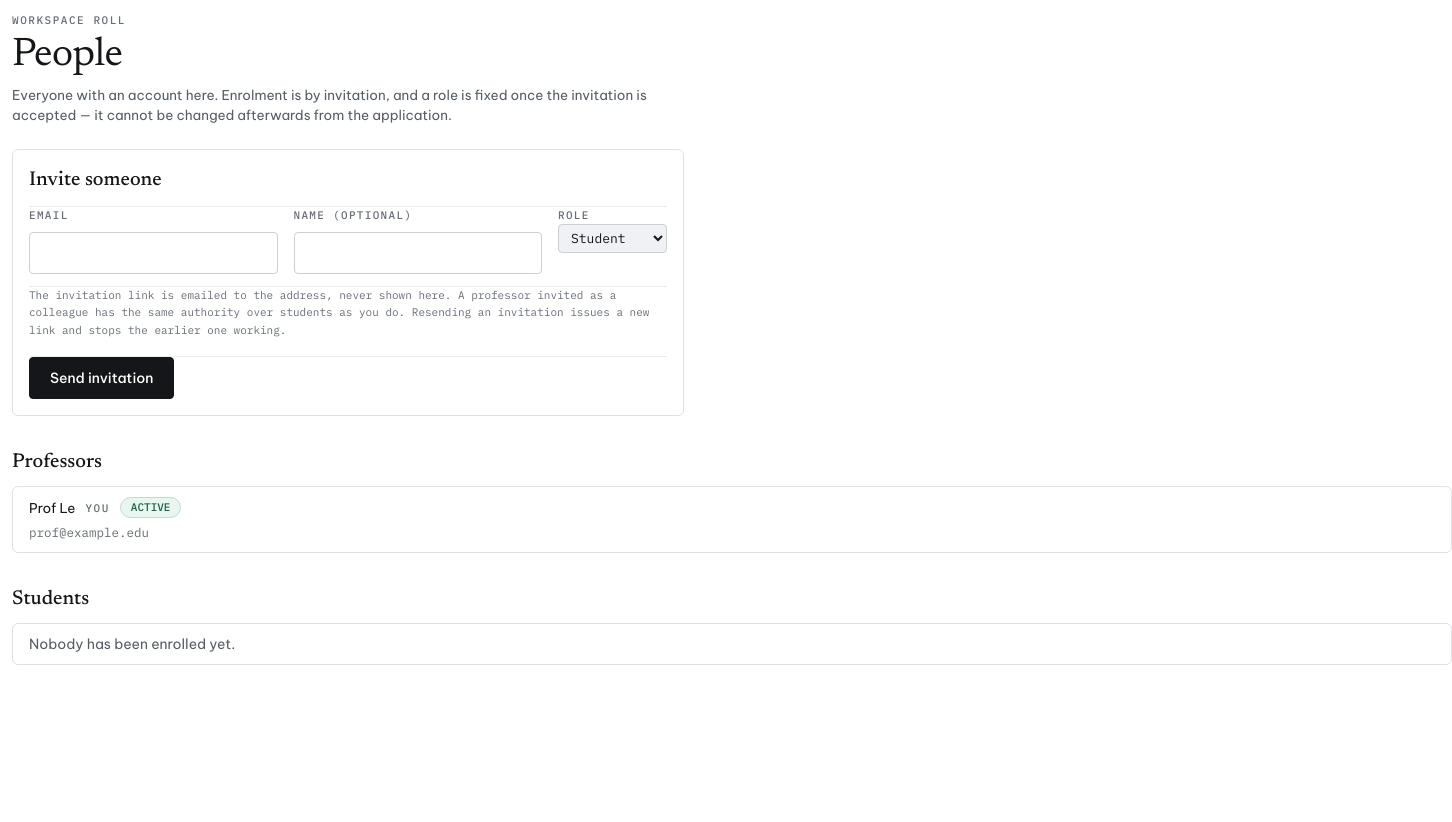
Test: confirms an invitation by the address it went to, never by a link
Type "new@example.edu" into the field labelled "Email" at (153, 252), box left=29, top=232, right=278, bottom=274
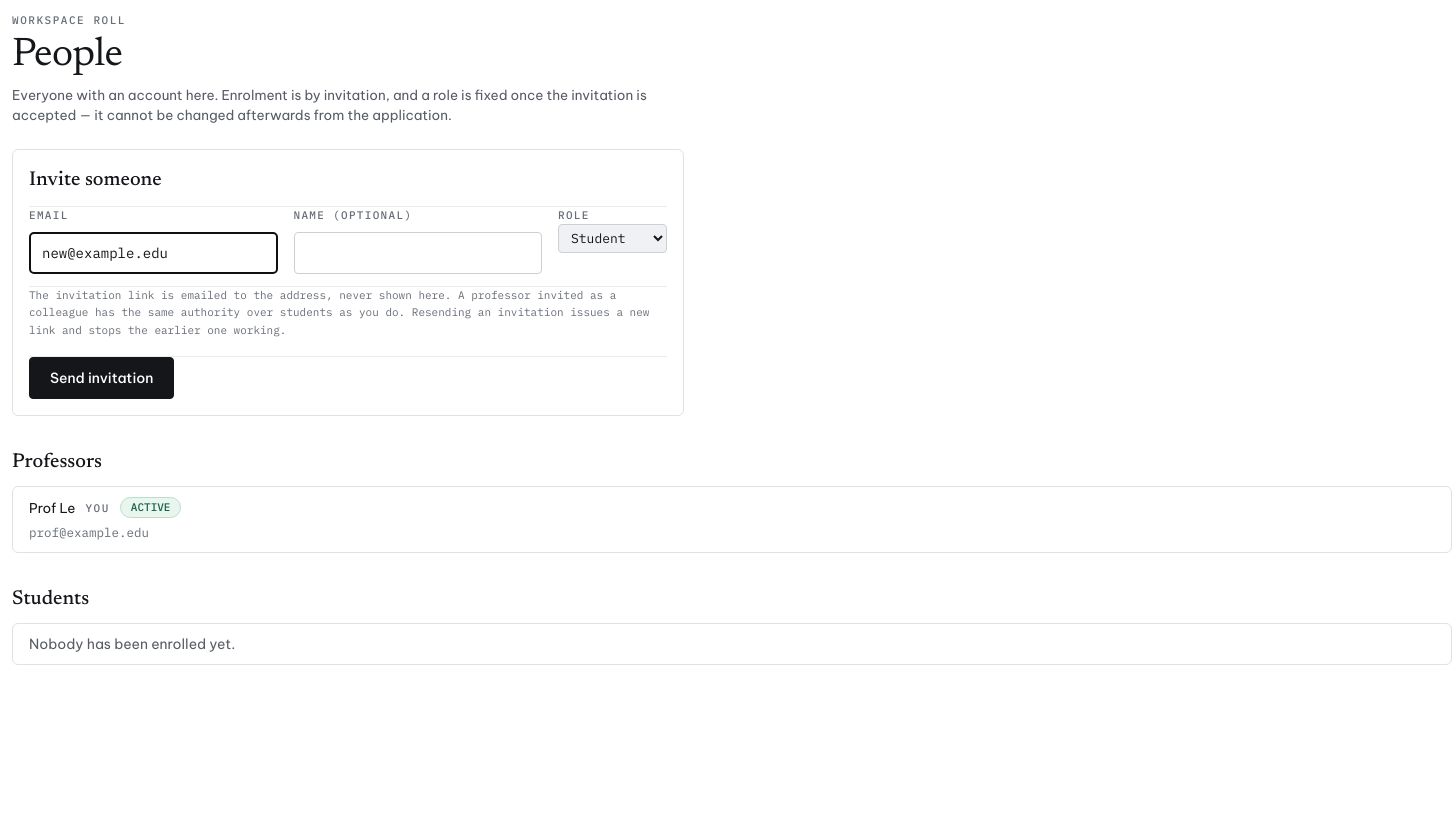
Click the button "Send invitation" at (102, 378), box left=29, top=357, right=174, bottom=399
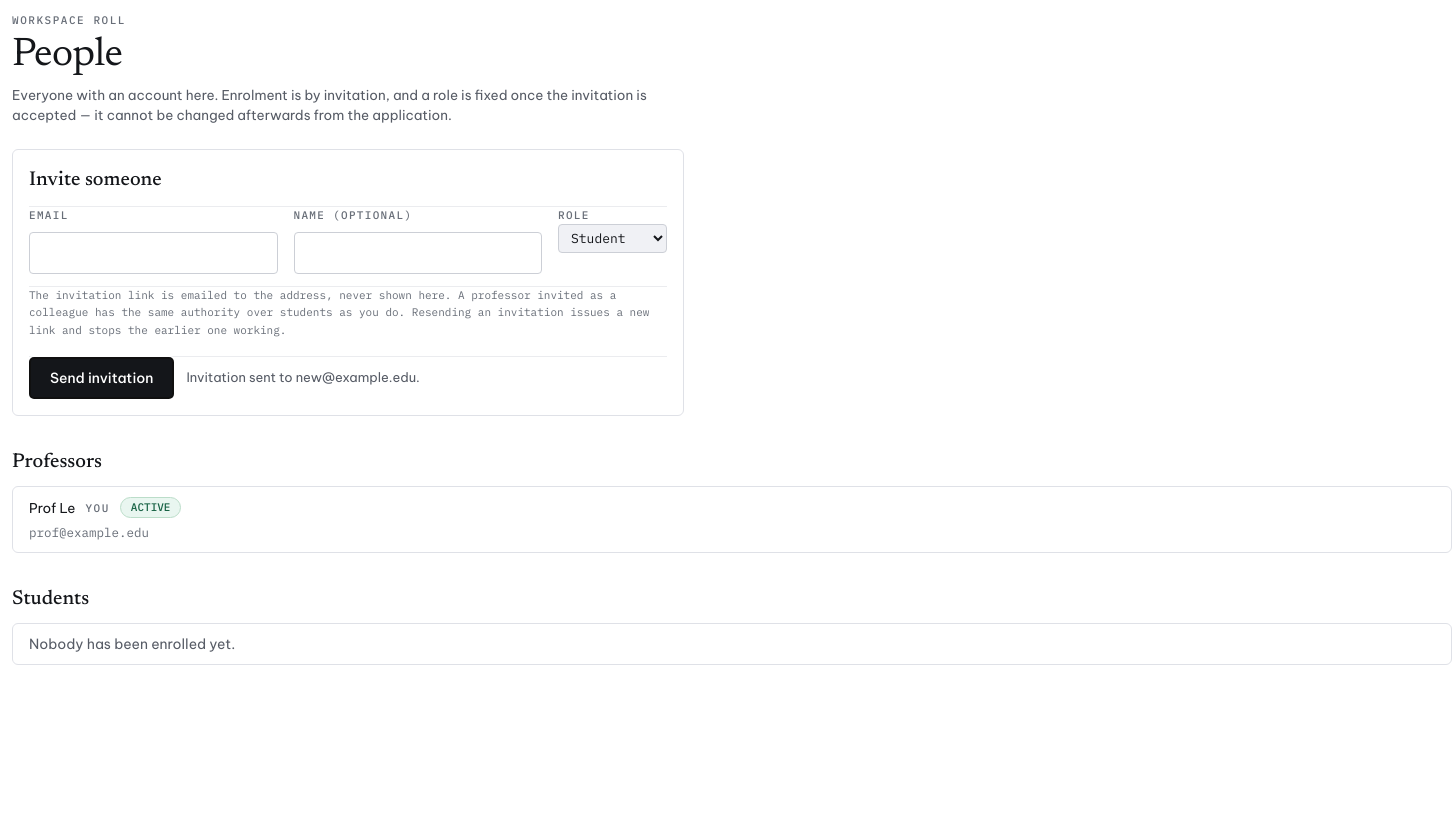
Expected: the message shows "new@example.edu", left=186, top=369, right=420, bottom=385
